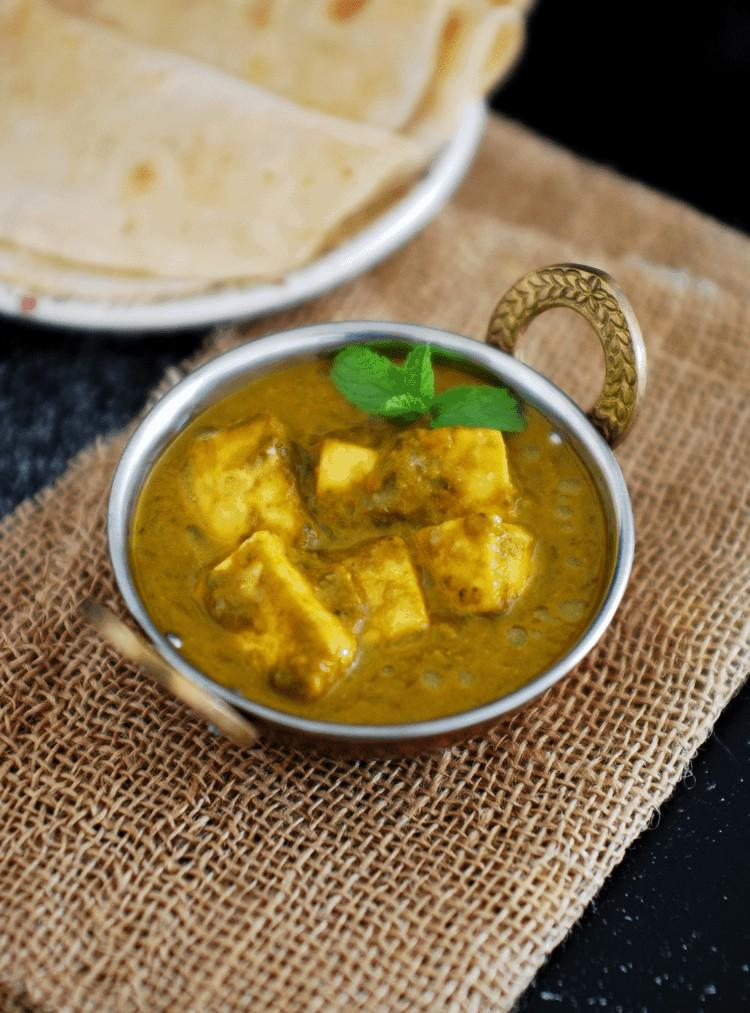PalakPaneer: (129, 347, 618, 719)
